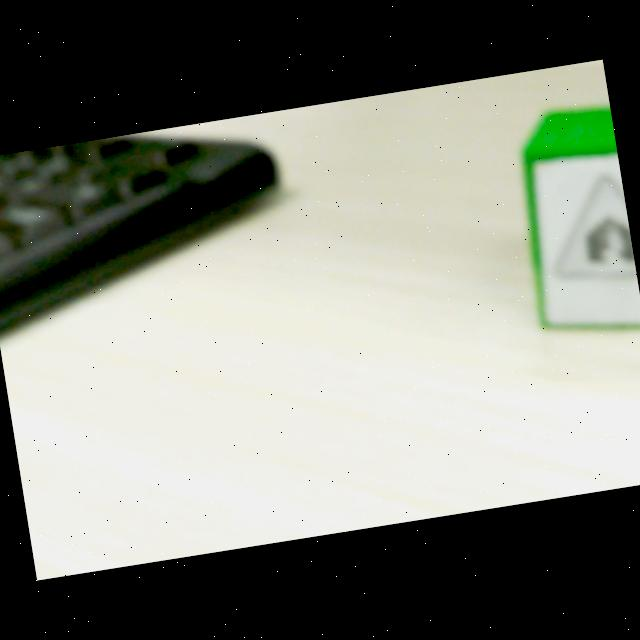Earthquake: (558, 175, 638, 282), (550, 212, 636, 289)
